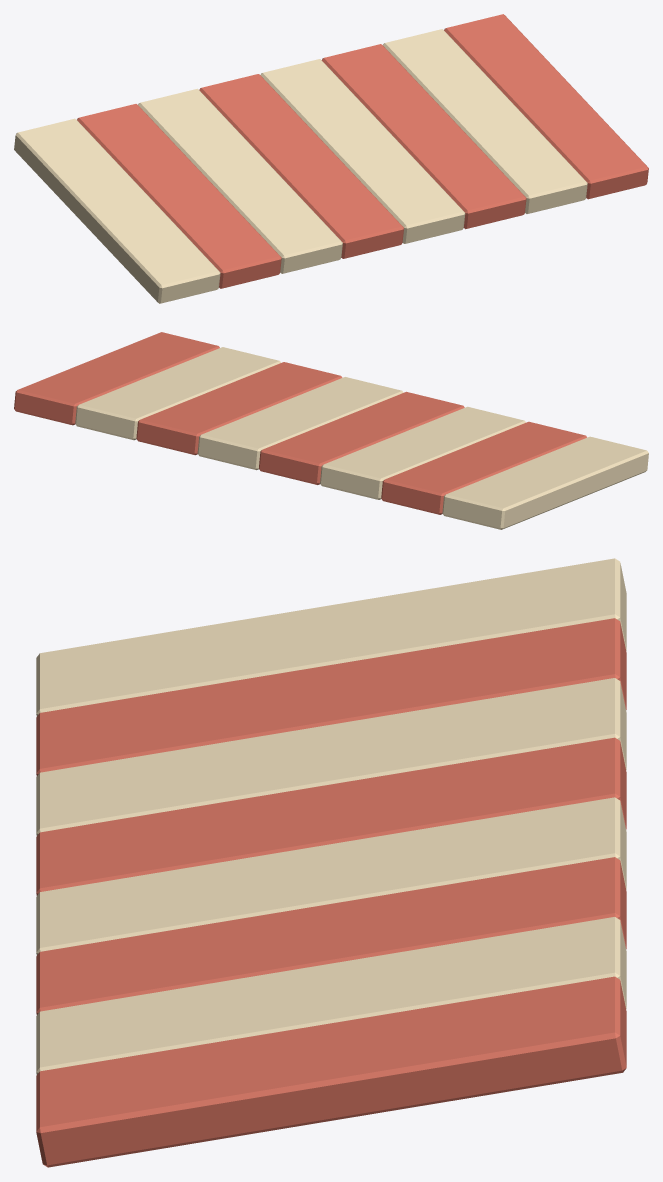
Rendered from Awning_2m.fbx.
3 renders of one model, top to bottom at view 1: azimuth 30°, elevation 25°; view 2: azimuth 150°, elevation 25°; view 3: azimuth 270°, elevation 25°, orthographic. The views are drawn at different scales.
Visible parts, largest first — view 1: CanvasStripe, CanvasStripe.005, CanvasStripe.002, CanvasStripe.006, CanvasStripe.007, CanvasStripe.003, CanvasStripe.004, CanvasStripe.001; view 2: CanvasStripe, CanvasStripe.001, CanvasStripe.002, CanvasStripe.006, CanvasStripe.003, CanvasStripe.004, CanvasStripe.005, CanvasStripe.007; view 3: CanvasStripe.007, CanvasStripe, CanvasStripe.001, CanvasStripe.006, CanvasStripe.002, CanvasStripe.003, CanvasStripe.004, CanvasStripe.005.
Part boxes in pixels (left/top/right/bottom): CanvasStripe: left=14, top=118, right=220, bottom=303; CanvasStripe.005: left=322, top=44, right=526, bottom=229; CanvasStripe.002: left=138, top=88, right=342, bottom=273; CanvasStripe.006: left=383, top=29, right=587, bottom=213; CanvasStripe.007: left=444, top=14, right=648, bottom=199; CanvasStripe.003: left=199, top=74, right=403, bottom=258; CanvasStripe.004: left=260, top=59, right=465, bottom=243; CanvasStripe.001: left=77, top=104, right=281, bottom=288; CanvasStripe: left=442, top=436, right=648, bottom=529; CanvasStripe.001: left=381, top=421, right=586, bottom=514; CanvasStripe.002: left=320, top=406, right=525, bottom=499; CanvasStripe.006: left=75, top=347, right=280, bottom=440; CanvasStripe.003: left=259, top=391, right=464, bottom=484; CanvasStripe.004: left=197, top=377, right=403, bottom=470; CanvasStripe.005: left=136, top=362, right=342, bottom=455; CanvasStripe.007: left=14, top=332, right=219, bottom=425; CanvasStripe.007: left=36, top=976, right=626, bottom=1167; CanvasStripe: left=36, top=558, right=626, bottom=716; CanvasStripe.001: left=36, top=618, right=626, bottom=776; CanvasStripe.006: left=36, top=917, right=626, bottom=1074; CanvasStripe.002: left=36, top=678, right=626, bottom=835; CanvasStripe.003: left=36, top=737, right=626, bottom=895; CanvasStripe.004: left=36, top=797, right=626, bottom=955; CanvasStripe.005: left=36, top=857, right=626, bottom=1014.
Bounding box in the file's own units: 2 × 0.2638 × 1.04.
